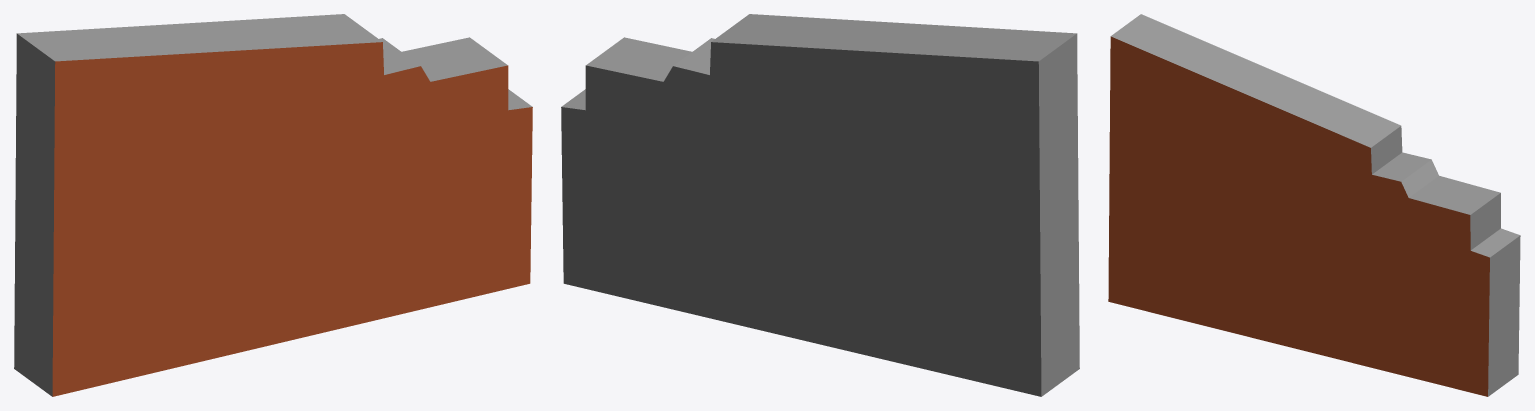
Rendered from construction_1088_assumed_A_Casa_h6m.obj.
3 renders of one model, left to right at view 1: azimuth 30°, elevation 25°; view 2: azimuth 150°, elevation 25°; view 3: azimuth 330°, elevation 25°, orthographic. The views are drawn at different scales.
Visible parts, largest first — view 1: construction_1088_assumed_A_Casa; view 2: construction_1088_assumed_A_Casa; view 3: construction_1088_assumed_A_Casa.
Boxes of the visible parts, bbox=[...] form: construction_1088_assumed_A_Casa: bbox=[14, 14, 532, 396]; construction_1088_assumed_A_Casa: bbox=[561, 14, 1079, 396]; construction_1088_assumed_A_Casa: bbox=[1108, 14, 1520, 396].
Size of the model in its own units: 43.37 by 29.17 by 6.
